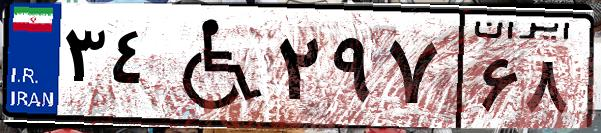2: (270, 28, 330, 110)
3: (57, 26, 110, 100)
4: (110, 28, 158, 98)
6: (475, 38, 525, 113)
7: (385, 28, 445, 110)
8: (525, 38, 570, 115)
9: (330, 28, 385, 110)
ژ (معلولین و جانبازان): (158, 12, 270, 120)
